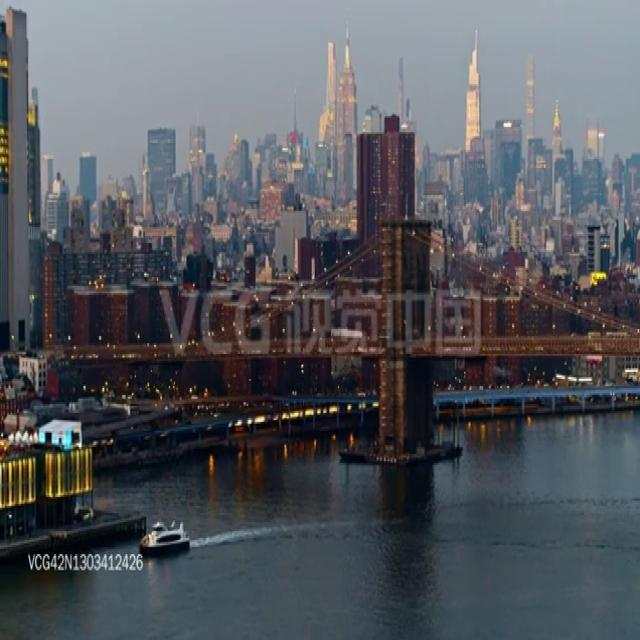houseboat: (136, 517, 189, 549)
